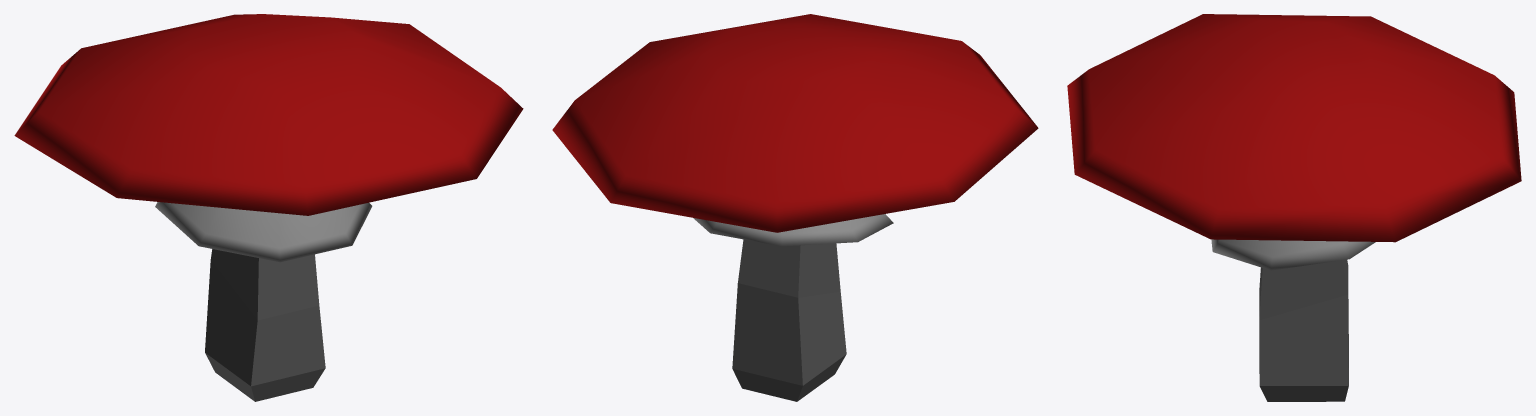
Rendered from Mushroom_poisoned.FBX.
The picture shows the model from 3 angles, left to right: view 1: azimuth 30°, elevation 25°; view 2: azimuth 150°, elevation 25°; view 3: azimuth 270°, elevation 25°; orthographic projection. The views are drawn at different scales.
Visible parts, largest first — view 1: Mushroom_type2_01; view 2: Mushroom_type2_01; view 3: Mushroom_type2_01.
Part boxes in pixels (box(x1,y1,x2,y2)): Mushroom_type2_01: box(14, 14, 523, 401); Mushroom_type2_01: box(552, 14, 1038, 401); Mushroom_type2_01: box(1067, 14, 1521, 401).
Bounding box in the file's own units: 17.1 × 16.45 × 13.34.
